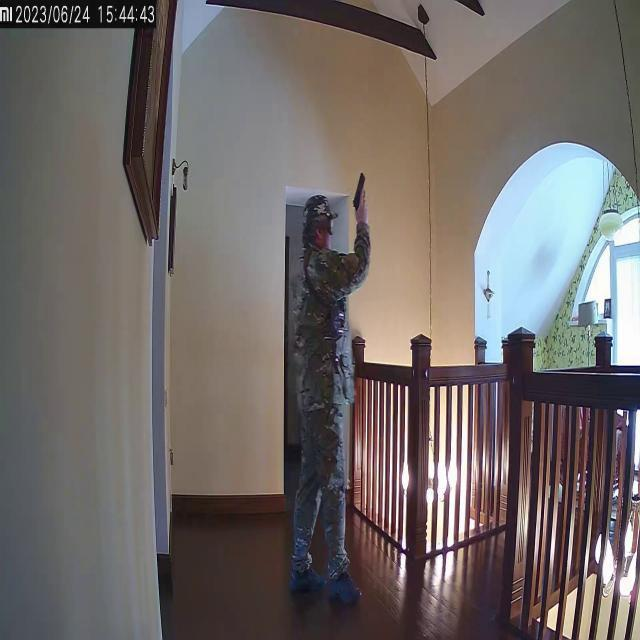pistol: (353, 170, 368, 218)
